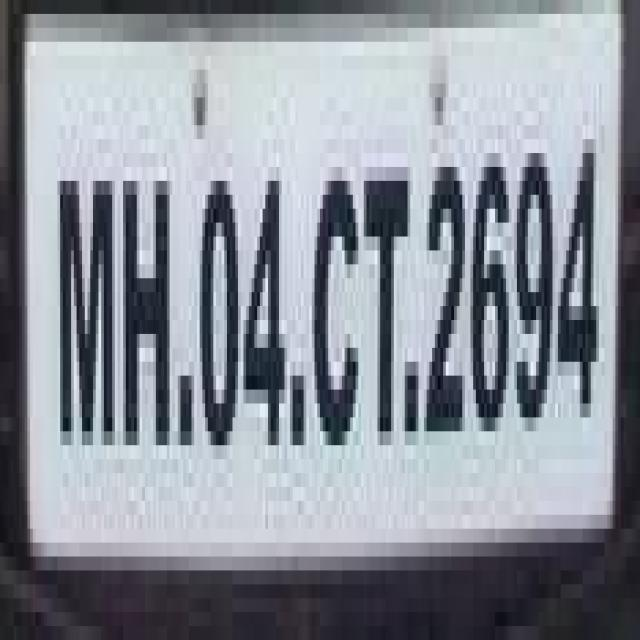plate: (0, 0, 618, 598)
